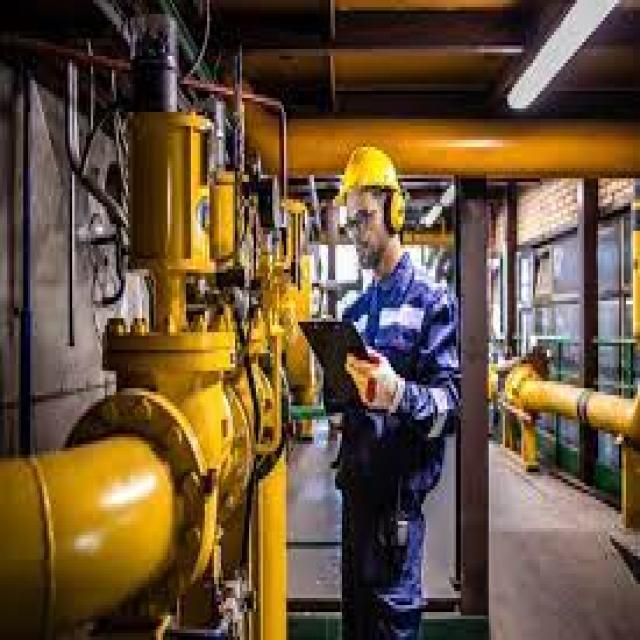vest: (338, 252, 462, 640)
